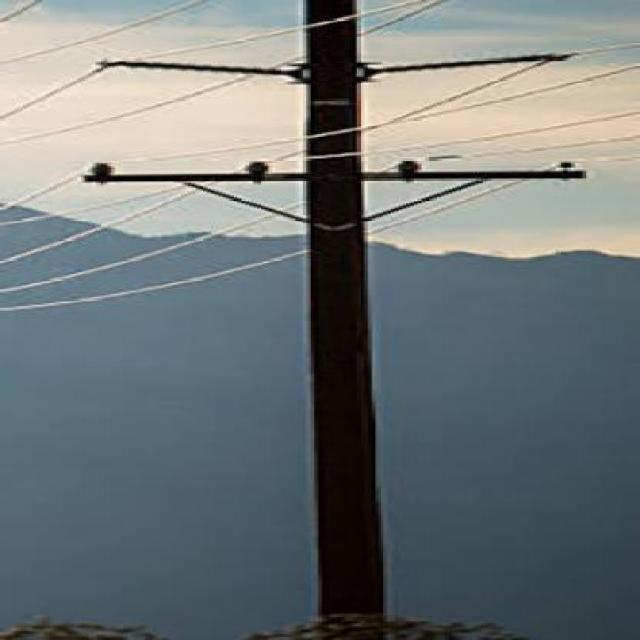pole: (70, 3, 618, 640)
